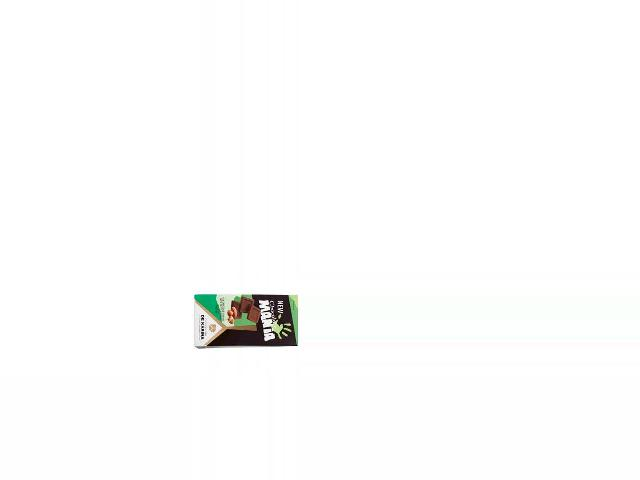chocolate: (192, 291, 299, 349)
